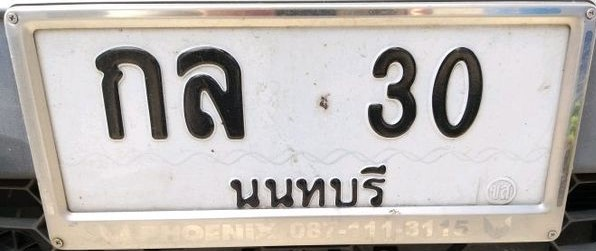txt01: (93, 43, 171, 143)
txt31: (172, 44, 248, 142)
